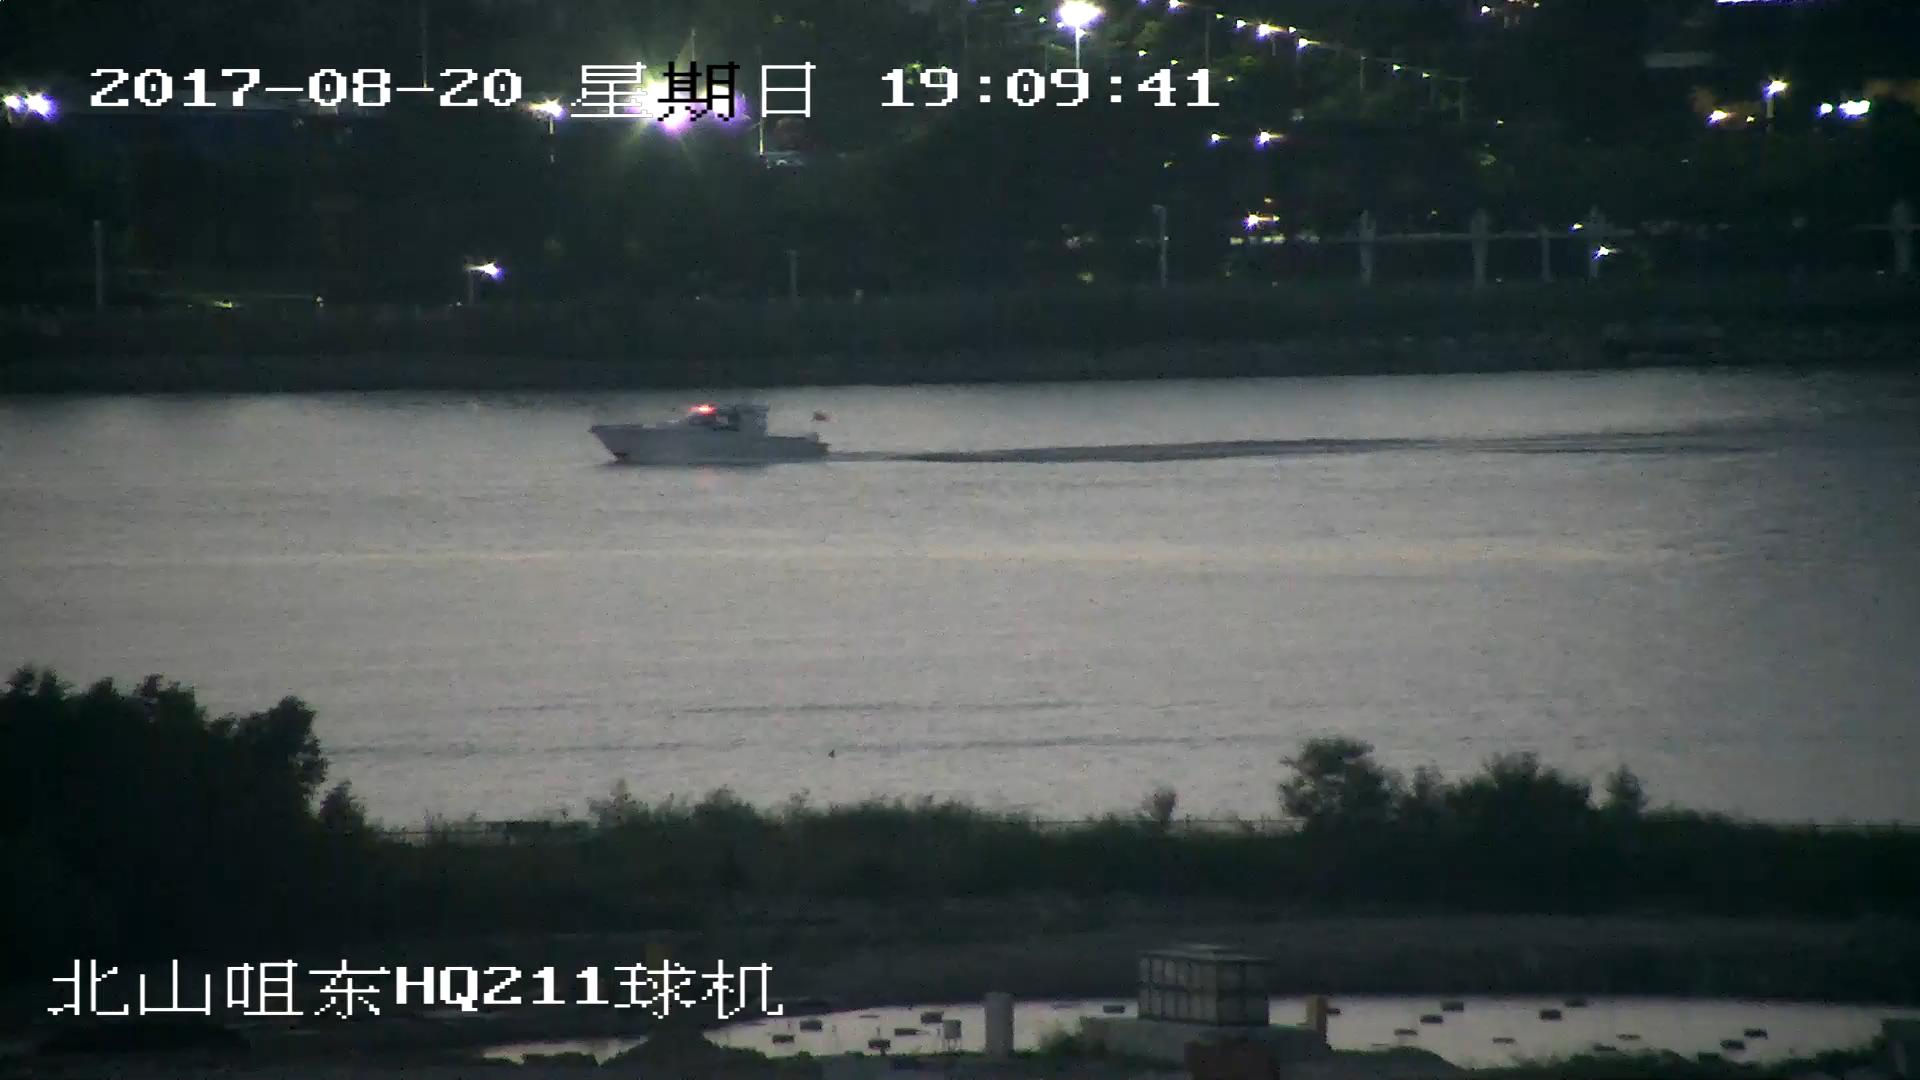passenger ship: (586, 401, 837, 467)
